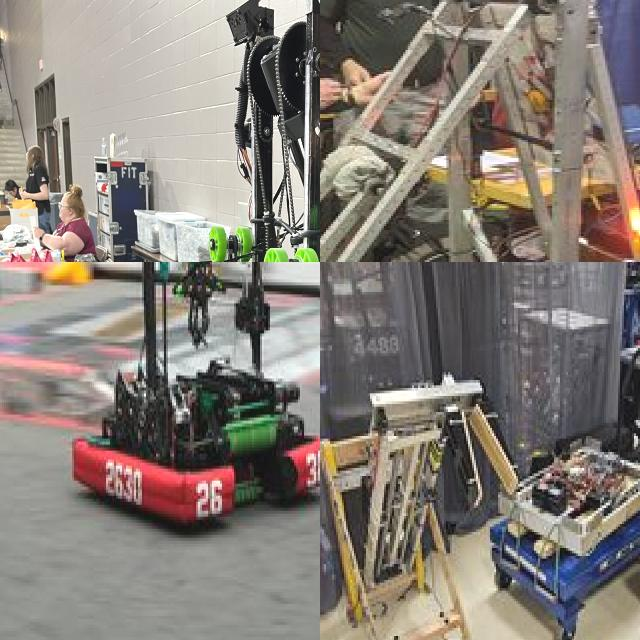FRC-Robots: (320, 0, 640, 262), (61, 262, 320, 530), (149, 0, 320, 262), (495, 427, 640, 552)
